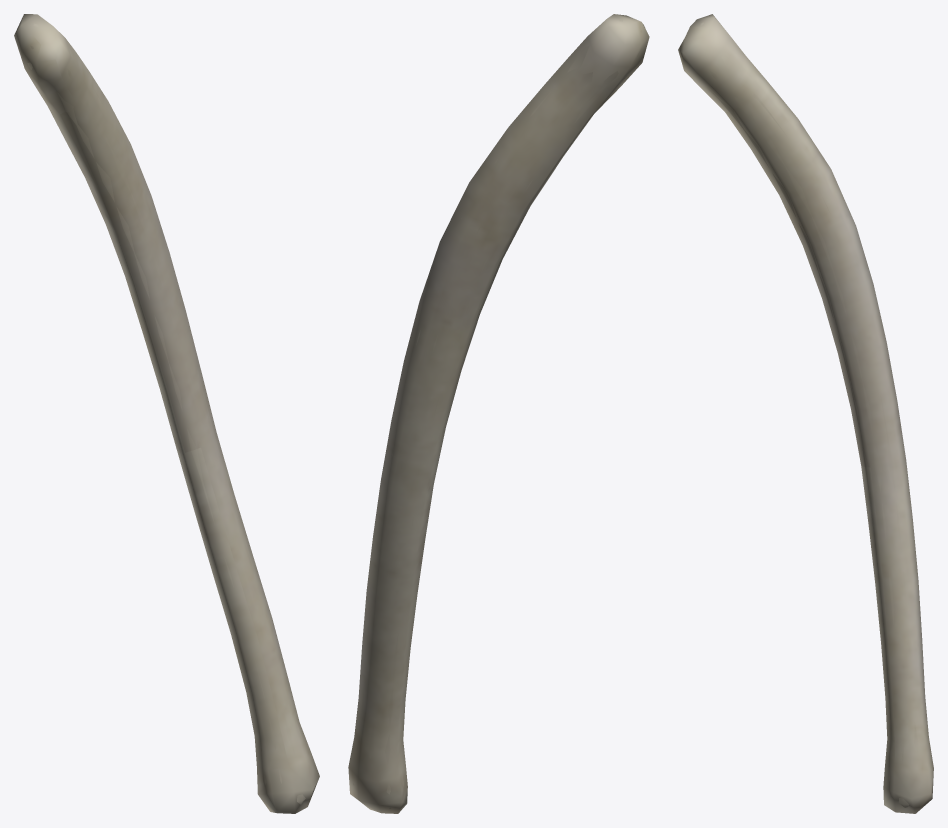
The model's file is Rib L04.fbx.
The picture shows the model from 3 angles, left to right: view 1: azimuth 30°, elevation 25°; view 2: azimuth 150°, elevation 25°; view 3: azimuth 330°, elevation 25°; orthographic projection. The views are drawn at different scales.
Parts seen in each view (by area): view 1: Rib L04 low, Rib L04; view 2: Rib L04 low, Rib L04; view 3: Rib L04 low, Rib L04.
Boxes of the visible parts, x1=… form: Rib L04 low: x1=14, y1=14, x2=319, y2=813; Rib L04: x1=27, y1=23, x2=305, y2=804; Rib L04 low: x1=348, y1=14, x2=649, y2=813; Rib L04: x1=353, y1=19, x2=642, y2=808; Rib L04 low: x1=678, y1=14, x2=933, y2=813; Rib L04: x1=700, y1=22, x2=929, y2=807.
Size of the model in its own units: 2.12 by 5.87 by 0.7479.
Materials: 1 (1 with a texture image).
